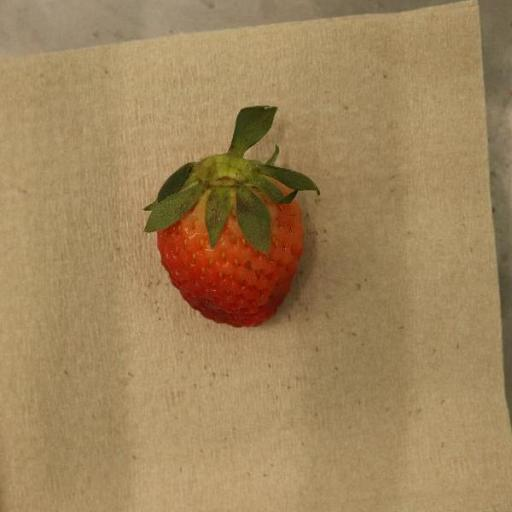Strawberry: (144, 106, 319, 328)
